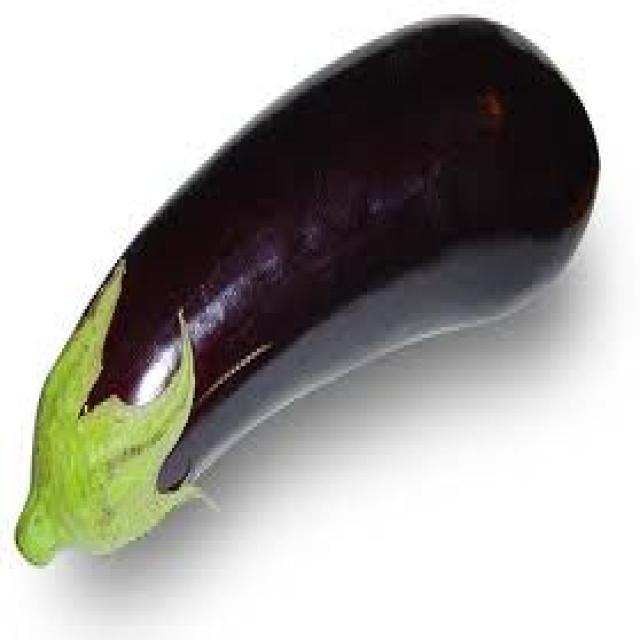Aubergine: (11, 4, 615, 584)
